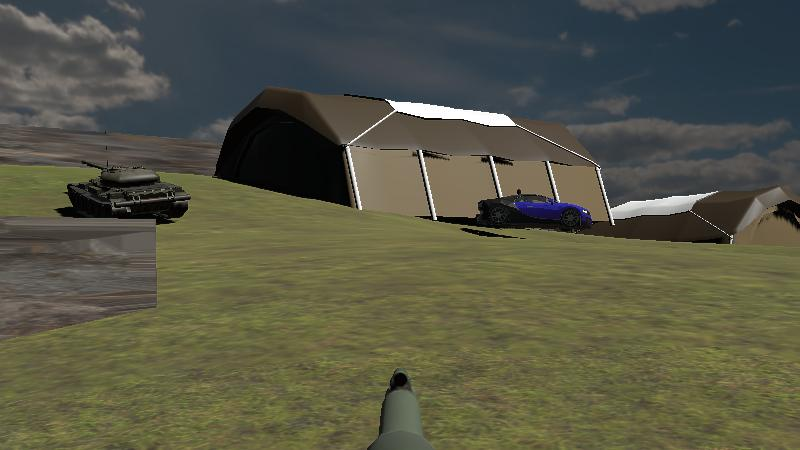Tank: (62, 153, 196, 230)
car: (473, 187, 596, 239)
